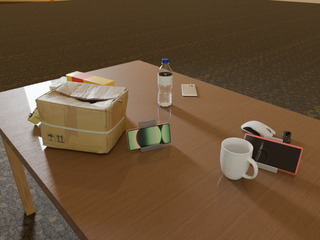bottle: (158, 59, 172, 107)
box: (35, 81, 128, 153), (66, 72, 114, 86)
cup: (220, 138, 258, 180)
mouse: (241, 121, 275, 138)
phone: (244, 134, 303, 174), (127, 123, 171, 150), (182, 84, 197, 96)
toy_car: (27, 107, 41, 124)
